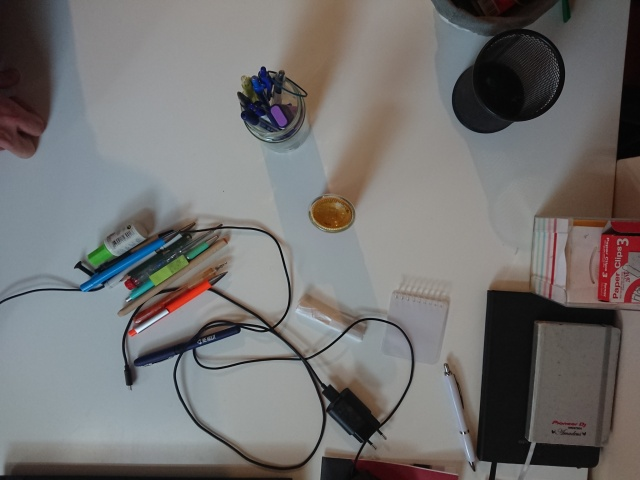Kotanyi Curry Spices Mix 70g: (306, 192, 358, 235)
